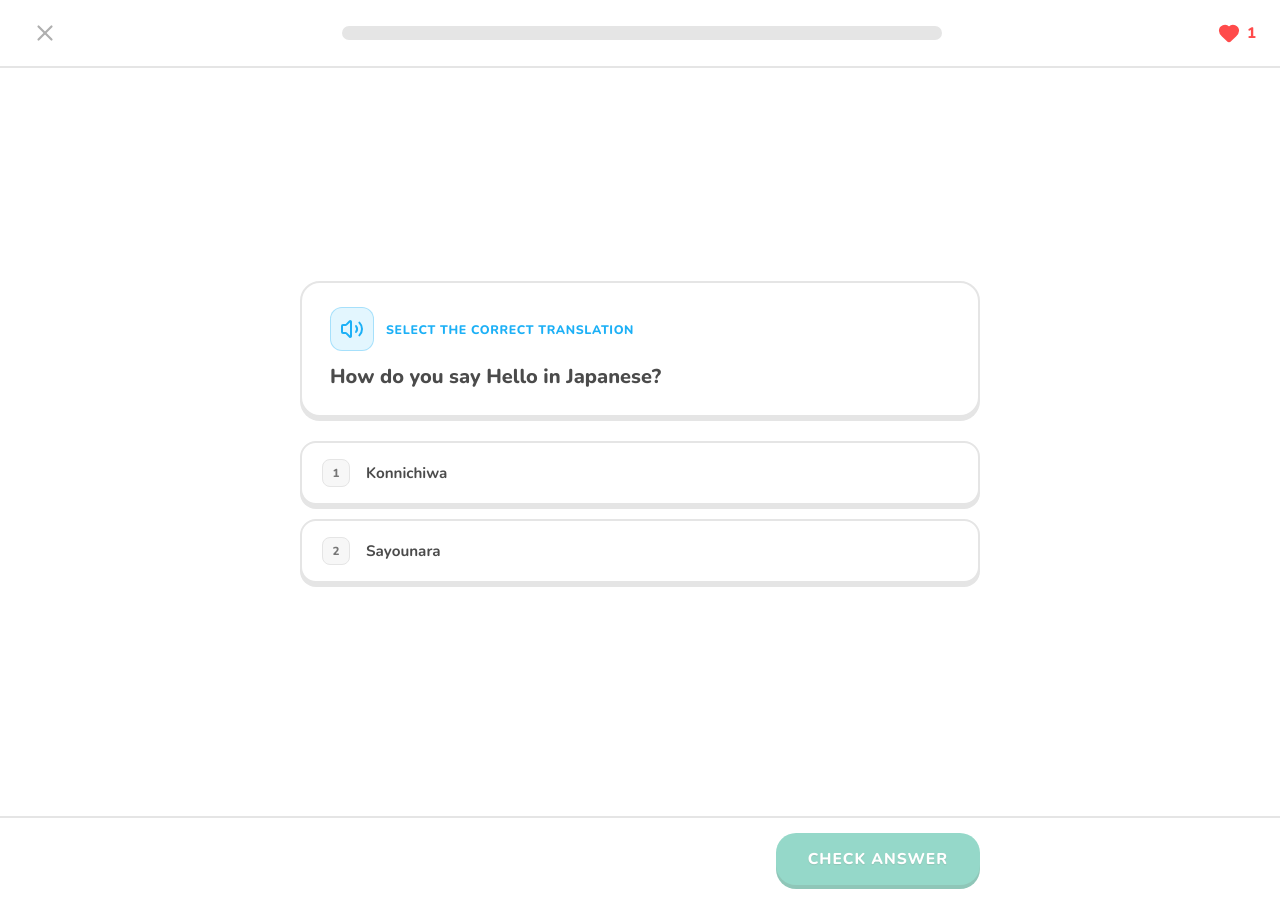
Test: LessonRunner Component (Quest Engine) › shows out of hearts screen when user runs out of hearts
Choose wrong answer
Click the radio button labelled "2 Sayounara". click: (403, 551)
box: [300,519,980,583]
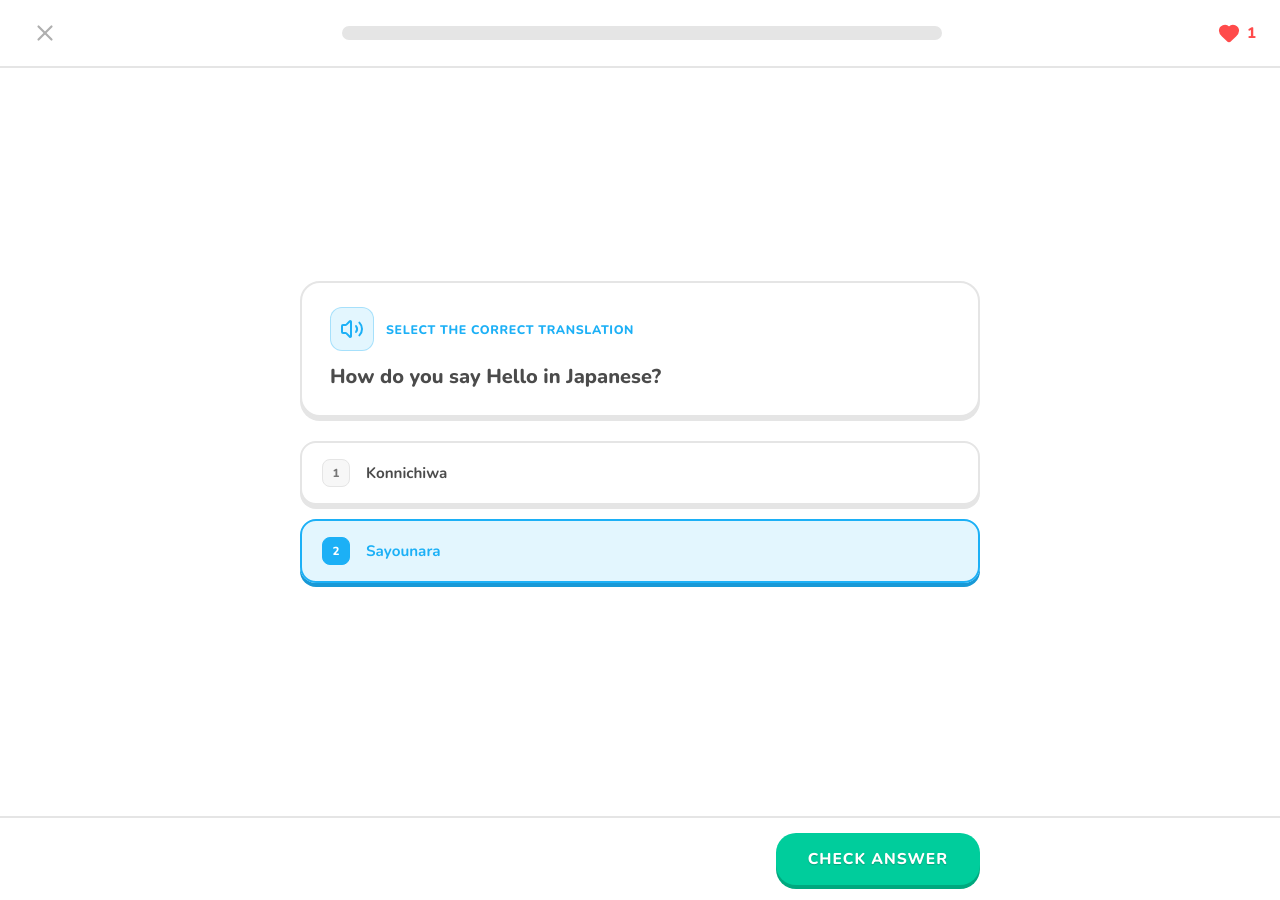
Click the button "Check Answer". click: (878, 859)
box: [776,833,980,885]
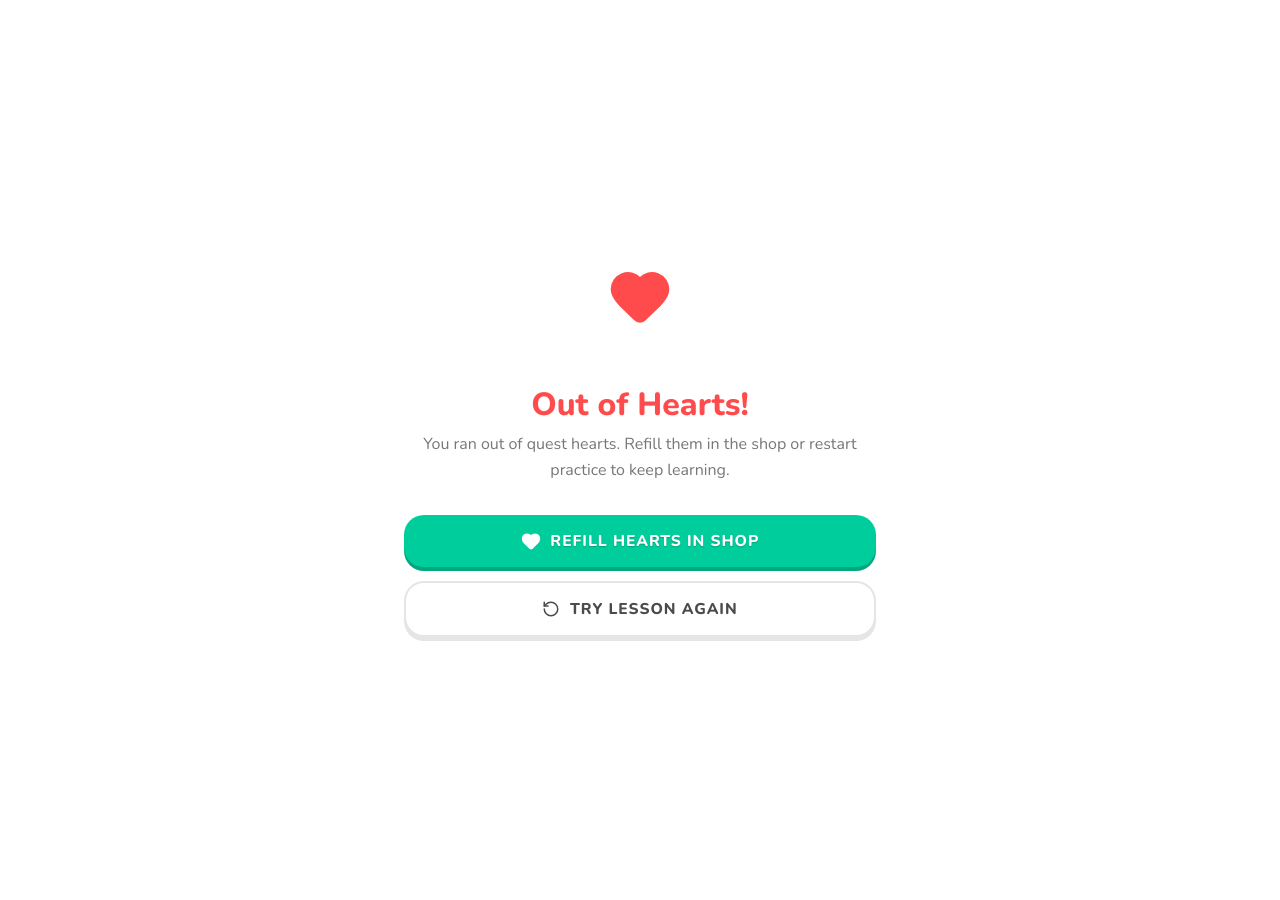
expect the heading "Out of Hearts!" is shown: met, box [531,382,749,426]
expect the button "Try Lesson Again" is shown: met, box [404,581,876,638]
